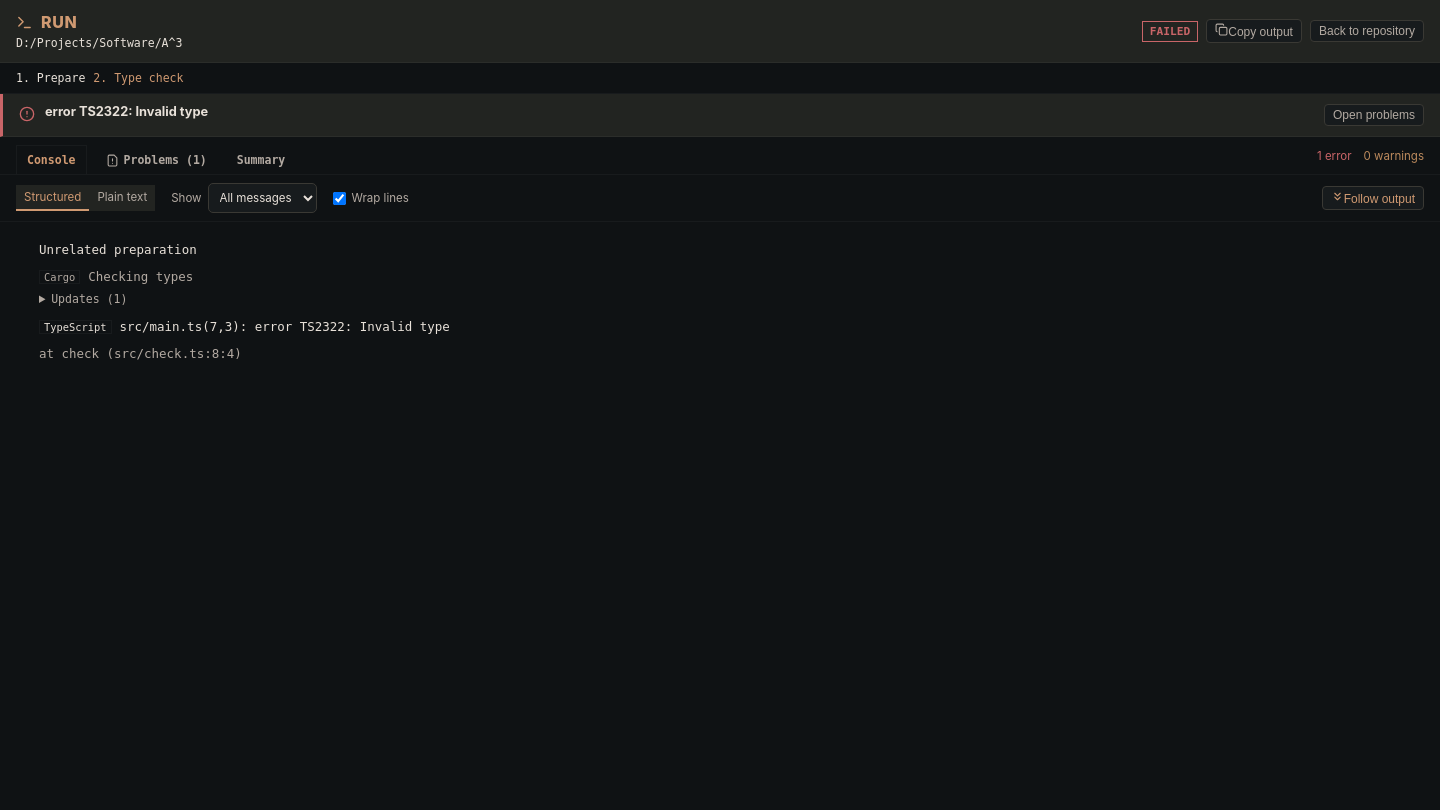
Scenario: console problem to editable planner draft › discards the draft with Escape and starts a normal quick todo without stale bug data
The image size is (1440, 810).
Click the tab "Problems (1)" at (156, 160), box [94,145,218,174]
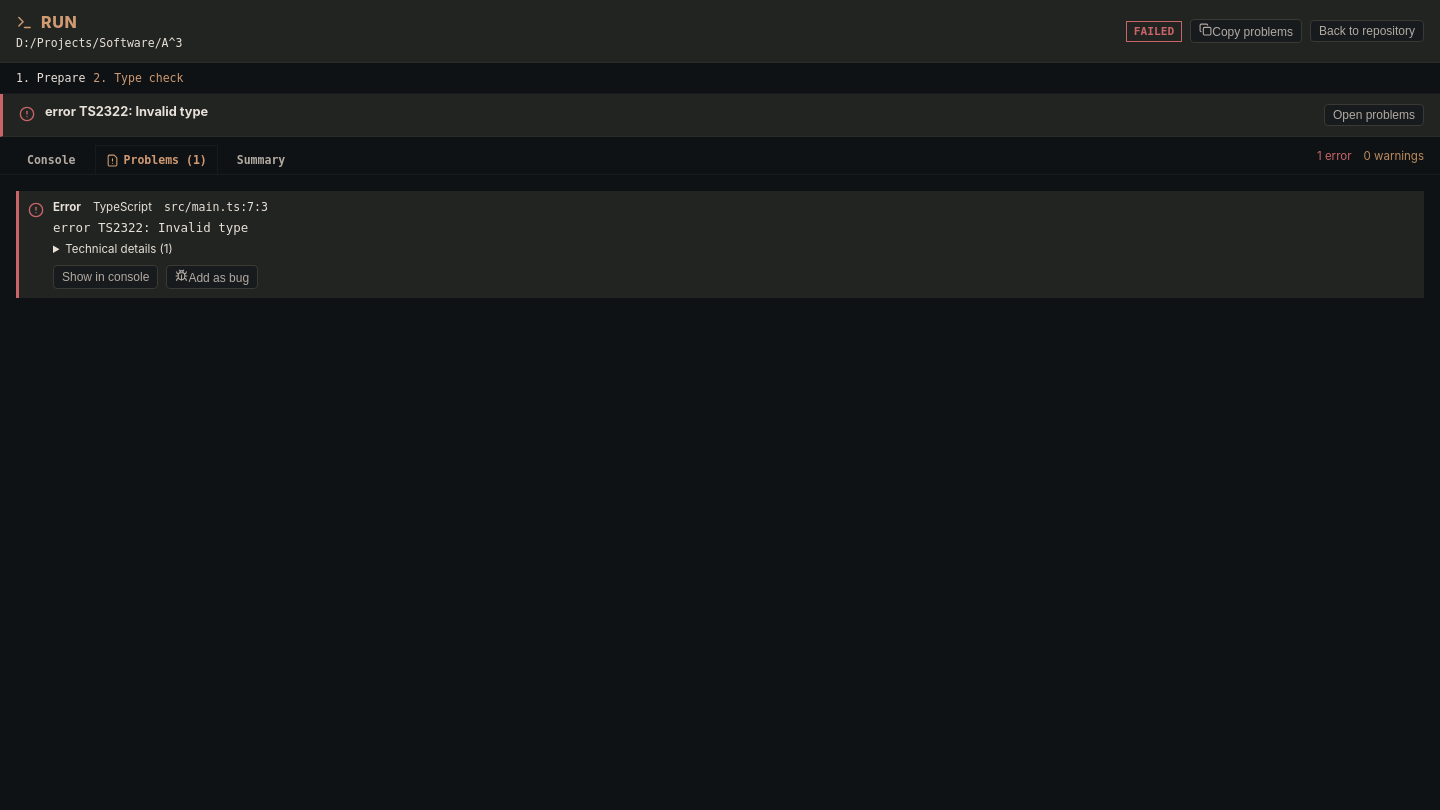
Expected: the button "Add as bug" is shown
Click the button "Add as bug" at (212, 277), box [166,265,258,289]
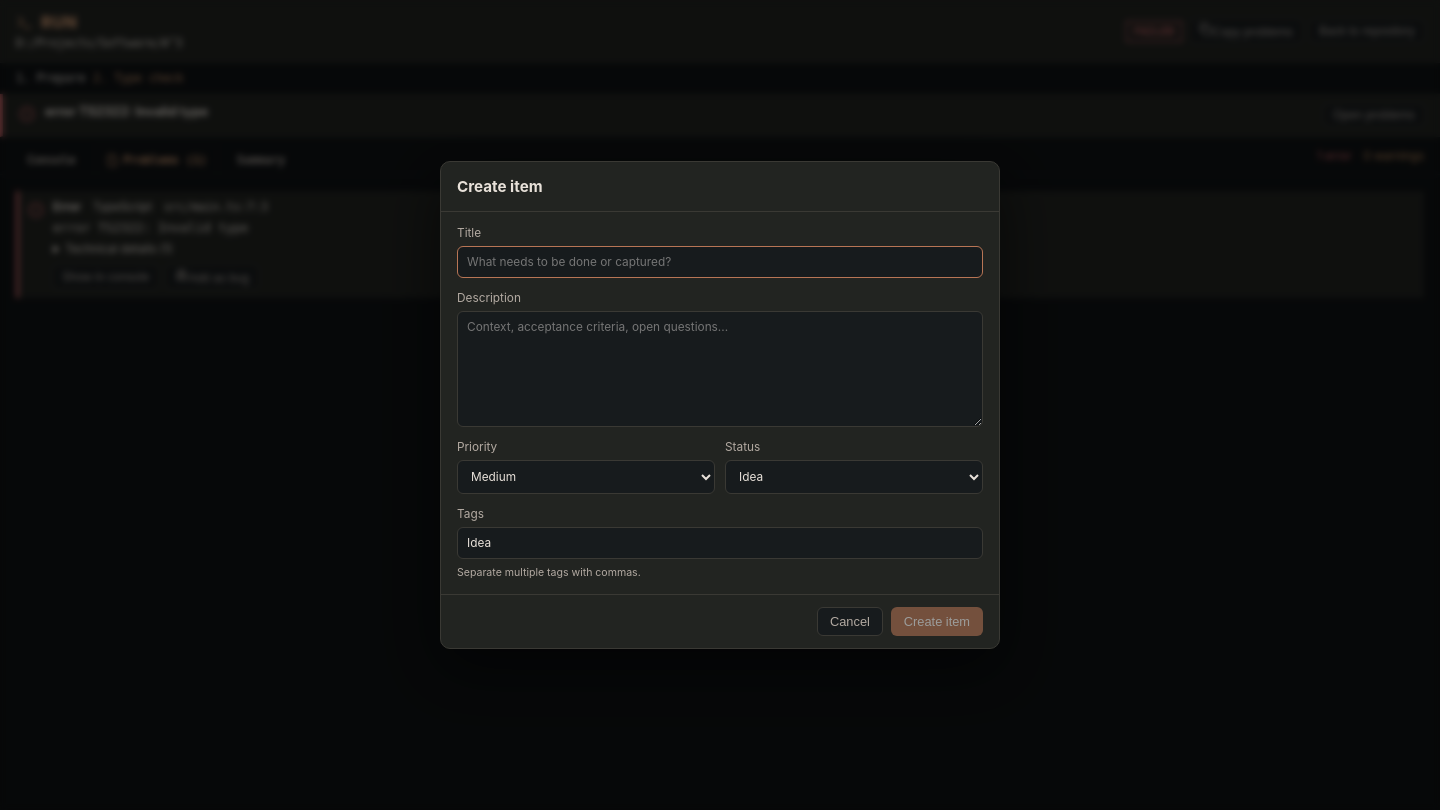
Expected: the field labelled "Title" is empty, [457,246,983,278]
Expected: the text box labelled "Description" is empty, [457,311,983,427]
Expected: the dropdown labelled "Status" shows "Idea", [725,460,983,494]
